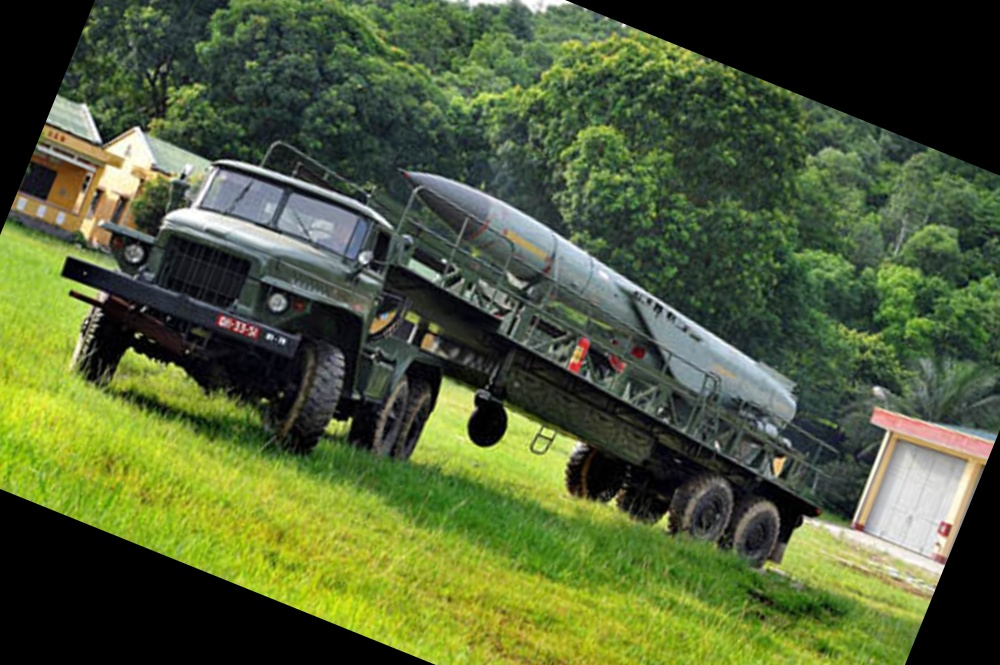plate: (216, 312, 262, 341)
